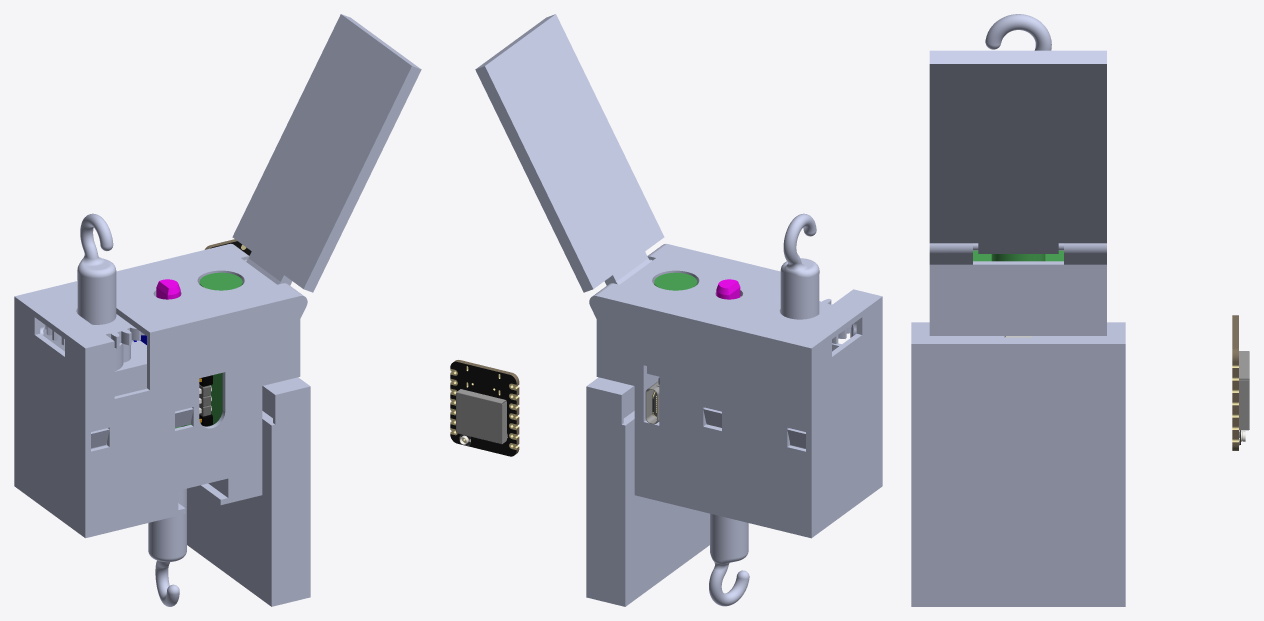
Rendered from servobox.glb.
The picture shows the model from 3 angles, left to right: view 1: azimuth 30°, elevation 25°; view 2: azimuth 150°, elevation 25°; view 3: azimuth 270°, elevation 25°; orthographic projection. The views are drawn at different scales.
Parts seen in each view (by area): view 1: BoxTop-1, BoxBottom-2, BatteryHolder-1, hook with gear-1, BlindsBottomHook-1, CR Servo-1, topPCB-1; view 2: BoxTop-1, BoxBottom-2, BatteryHolder-1, Seeed Studio XIAO ESP32C6-1/XIAO-ESP32S3 v2 v1-1/Seeed Studi (×2), hook with gear-1, BlindsBottomHook-1, topPCB-1; view 3: BatteryHolder-1, BoxTop-1, BoxBottom-2, Seeed Studio XIAO ESP32C6-1/XIAO-ESP32S3 v2 v1-1/Seeed Studi (×2), hook with gear-1, topPCB-1.
Part boxes in pixels (bbox=[...]): BoxTop-1: bbox=[14, 14, 421, 448]; BoxBottom-2: bbox=[14, 340, 300, 538]; BatteryHolder-1: bbox=[187, 377, 310, 606]; hook with gear-1: bbox=[45, 213, 145, 348]; BlindsBottomHook-1: bbox=[148, 488, 186, 606]; CR Servo-1: bbox=[91, 340, 146, 448]; topPCB-1: bbox=[199, 272, 242, 290]; BoxTop-1: bbox=[475, 14, 882, 448]; BoxBottom-2: bbox=[596, 343, 882, 538]; BatteryHolder-1: bbox=[586, 377, 709, 606]; Seeed Studio XIAO ESP32C6-1/XIAO-ESP32S3 v2 v1-1/Seeed Studi (×2): bbox=[450, 360, 519, 456]; hook with gear-1: bbox=[780, 213, 851, 343]; BlindsBottomHook-1: bbox=[709, 513, 749, 606]; topPCB-1: bbox=[654, 272, 697, 290]; BatteryHolder-1: bbox=[911, 322, 1125, 606]; BoxTop-1: bbox=[929, 50, 1106, 307]; BoxBottom-2: bbox=[929, 307, 1106, 335]; Seeed Studio XIAO ESP32C6-1/XIAO-ESP32S3 v2 v1-1/Seeed Studi (×2): bbox=[1232, 315, 1249, 450]; hook with gear-1: bbox=[985, 14, 1051, 50]; topPCB-1: bbox=[973, 250, 1063, 261].
Bounding box in the file's own units: 0.0902 × 0.1317 × 0.0631.
